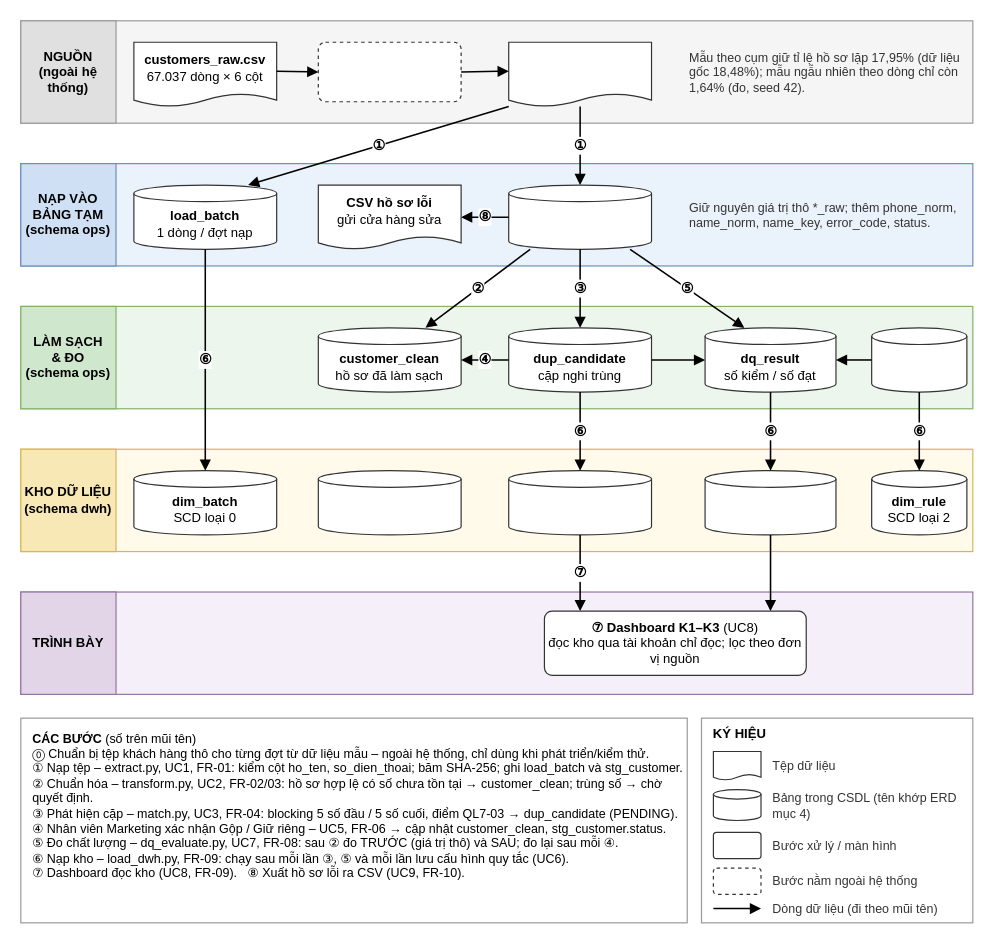
Image size: 994x944. Some labels were removed from this diagram. Here are the shapes that lost their labels. From the top down, the centre of each, then its label:
At pixel 389 71: "⓪ Trích mẫu theo cụm số điện thoại, seed 42 (notebook)".
At pixel 580 74: "Tệp khách hàng thô 1 đợt, ≤ 8.000 dòng".
At pixel 580 216: "stg_customer hồ sơ thô + chuẩn hóa".
At pixel 918 359: "dq_rule (UC6)".
At pixel 389 502: "dim_date lịch sinh sẵn".
At pixel 580 502: "fact_dup_pair 1 dòng / cặp".
At pixel 770 502: "fact_dq_check quy tắc × lần đo".
